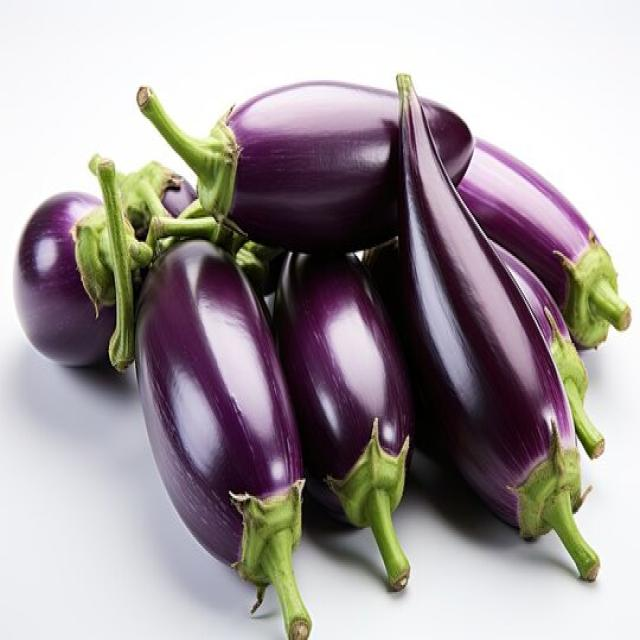Eggplant: (395, 71, 601, 581), (132, 235, 312, 638), (135, 76, 474, 252), (362, 233, 604, 460), (272, 247, 414, 592), (454, 134, 630, 350), (12, 188, 118, 368)
Onion: (486, 236, 604, 458)
